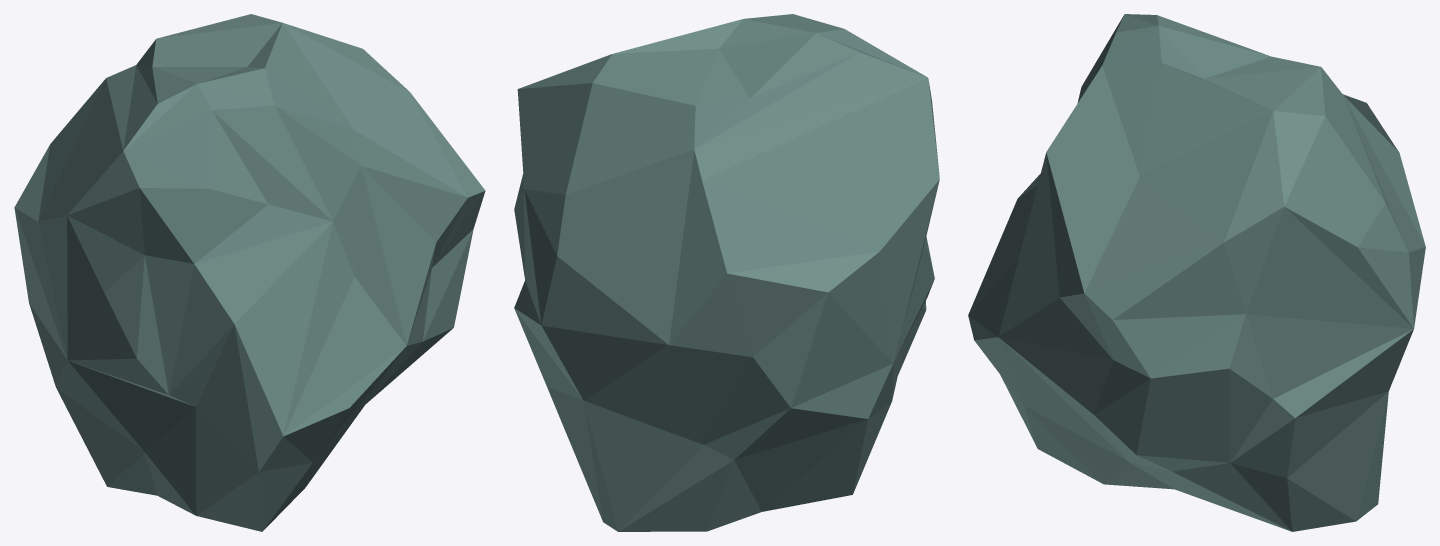
Rendered from SM_rock3.fbx.
3 views of the same model, side by side, from view 1: azimuth 30°, elevation 25°; view 2: azimuth 150°, elevation 25°; view 3: azimuth 270°, elevation 25° (orthographic). The views are drawn at different scales.
Parts seen in each view (by area): view 1: SM_rock3; view 2: SM_rock3; view 3: SM_rock3.
Boxes of the visible parts, x1,y1,x2,y2 form: SM_rock3: (14, 14, 485, 531); SM_rock3: (514, 14, 939, 531); SM_rock3: (968, 14, 1425, 531).
Size of the model in its own units: 1.49 by 1.53 by 1.44.
